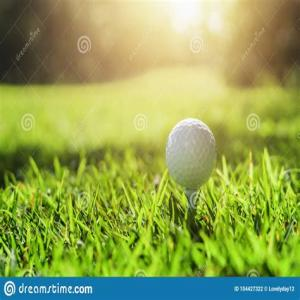Golf: (166, 115, 216, 189)
